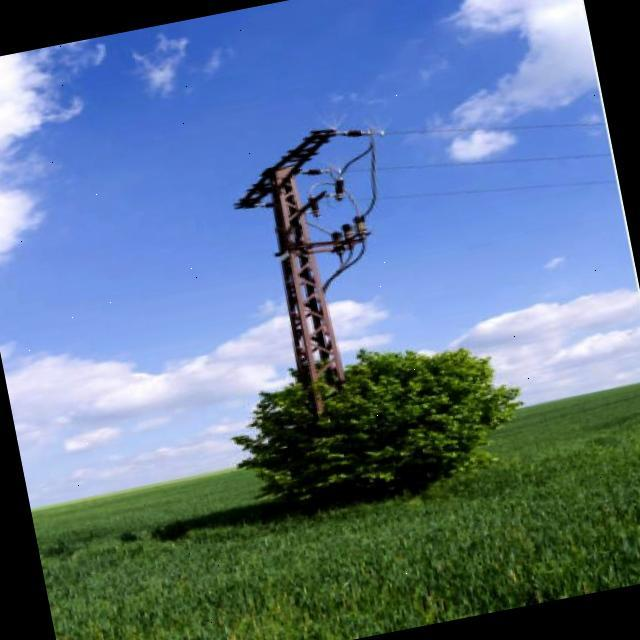critical vegetation: (206, 109, 440, 518), (241, 321, 438, 512)
